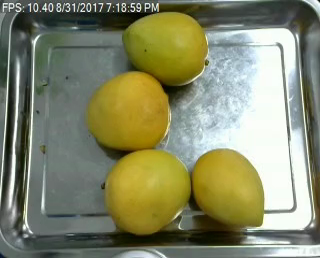Mango: (105, 150, 189, 231), (86, 72, 168, 150), (123, 12, 206, 84), (190, 148, 264, 227)
